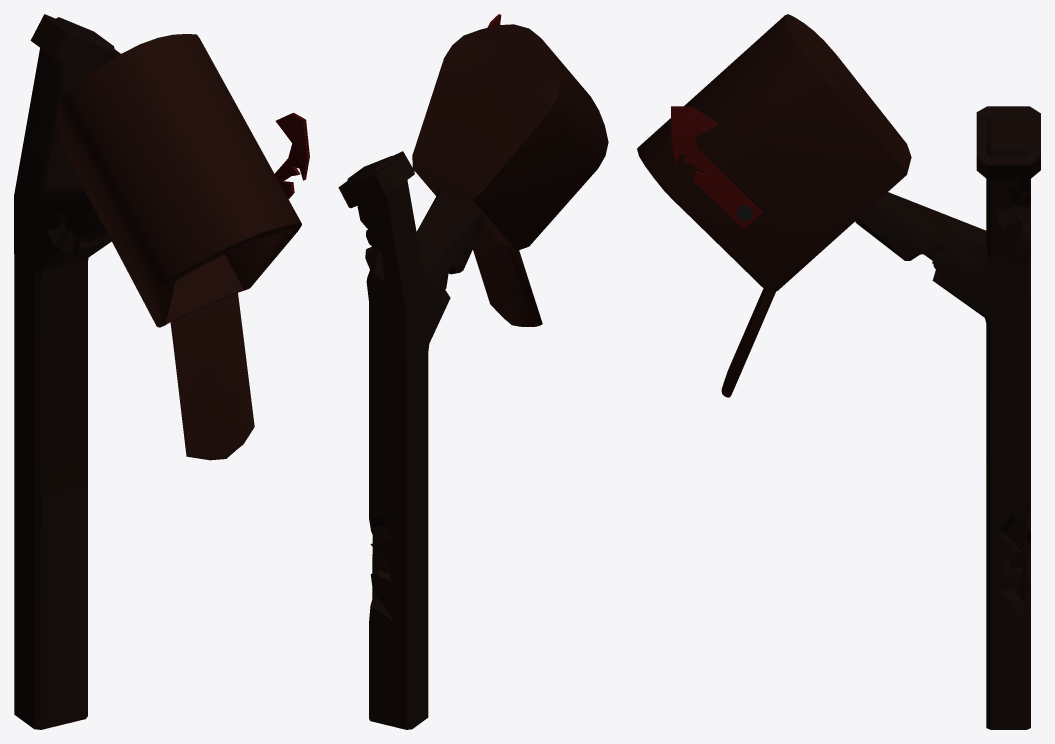
The model's file is RuinedMailBox.fbx.
The picture shows the model from 3 angles, left to right: view 1: azimuth 30°, elevation 25°; view 2: azimuth 150°, elevation 25°; view 3: azimuth 270°, elevation 25°; orthographic projection. The views are drawn at different scales.
Parts seen in each view (by area): view 1: RuinedMailBox; view 2: RuinedMailBox; view 3: RuinedMailBox.
Boxes of the visible parts, box(x1,y1,x2,y2) form: RuinedMailBox: box(14, 14, 309, 729); RuinedMailBox: box(338, 14, 608, 729); RuinedMailBox: box(637, 14, 1040, 729).
Bounding box in the file's own units: 19.26 × 87.5 × 46.52.
